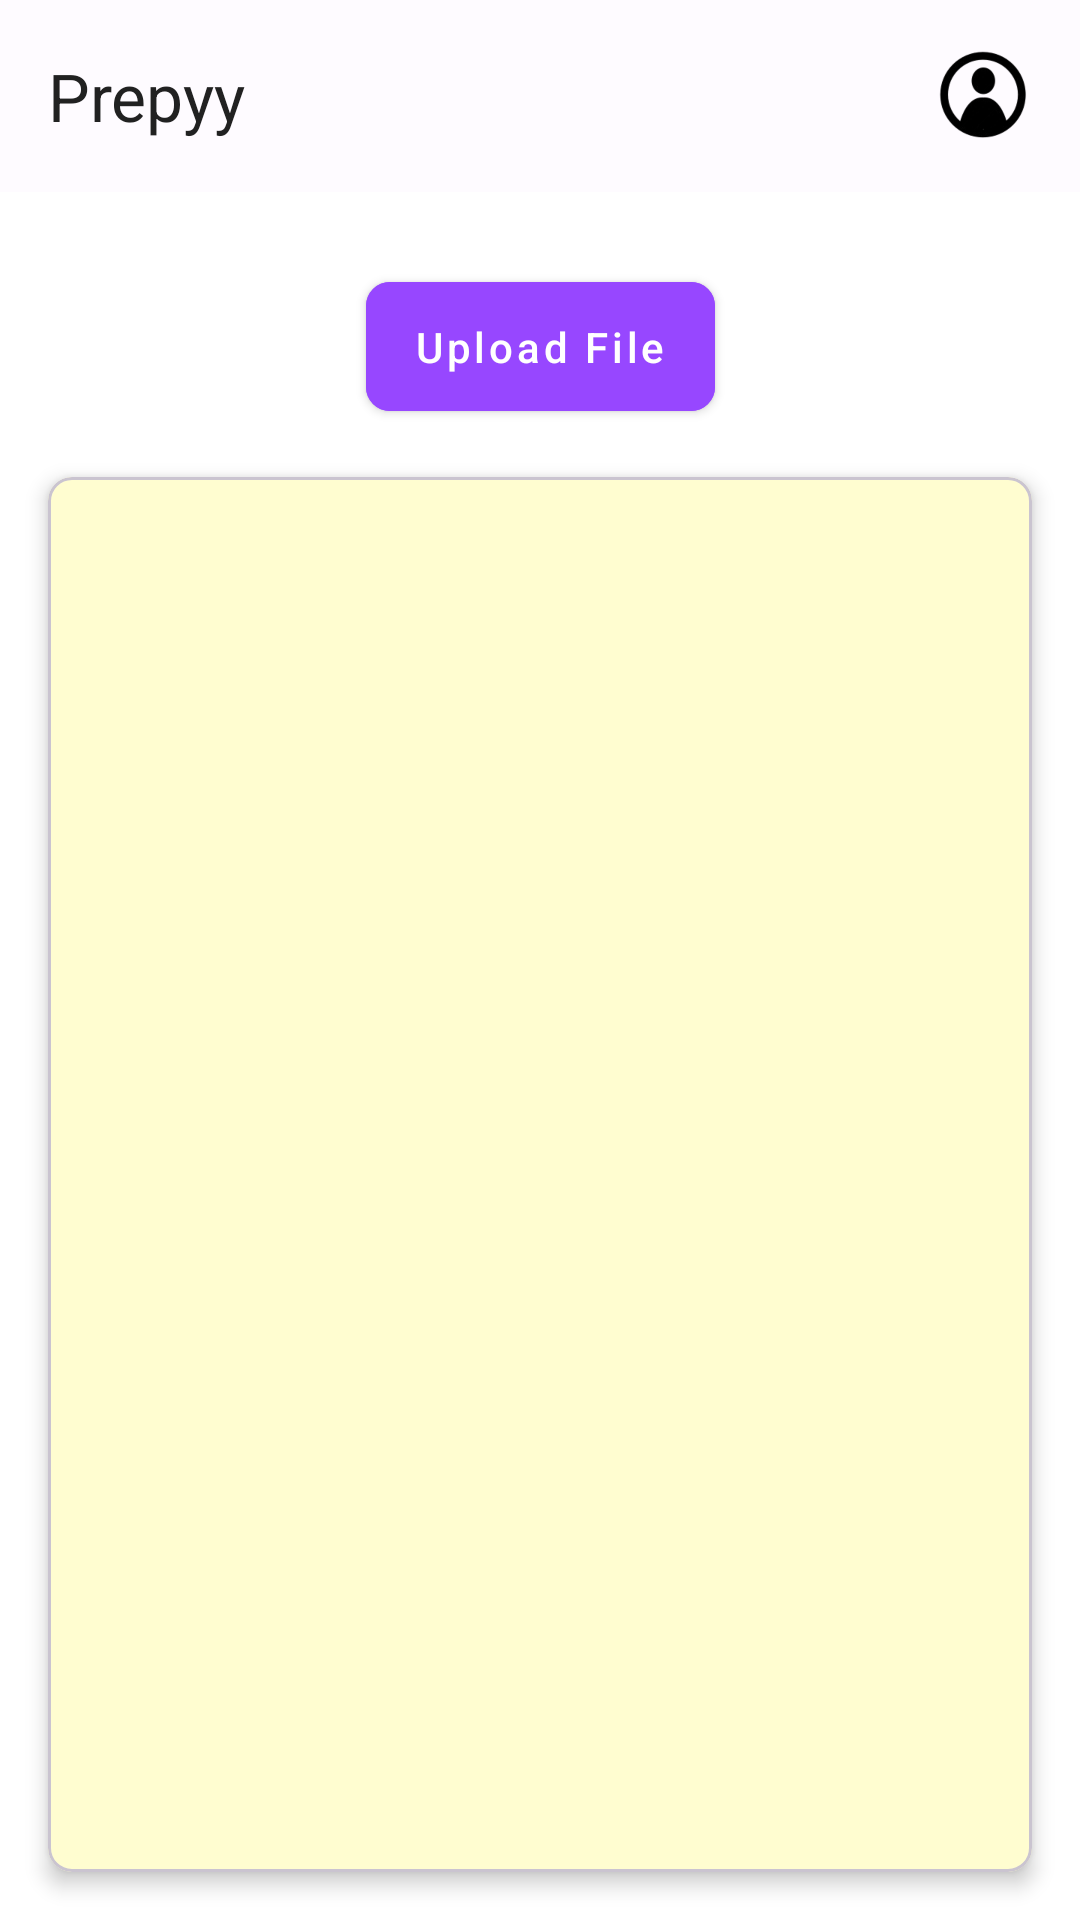

Named icons in this screenshot (1080×1920) and their centers, [x,y]:
profile: [983,94]
